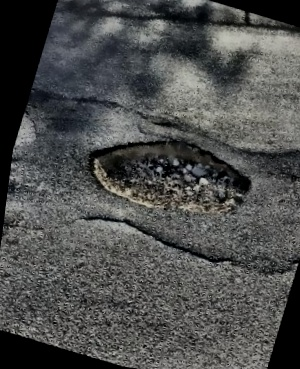pothole: (74, 109, 264, 235)
